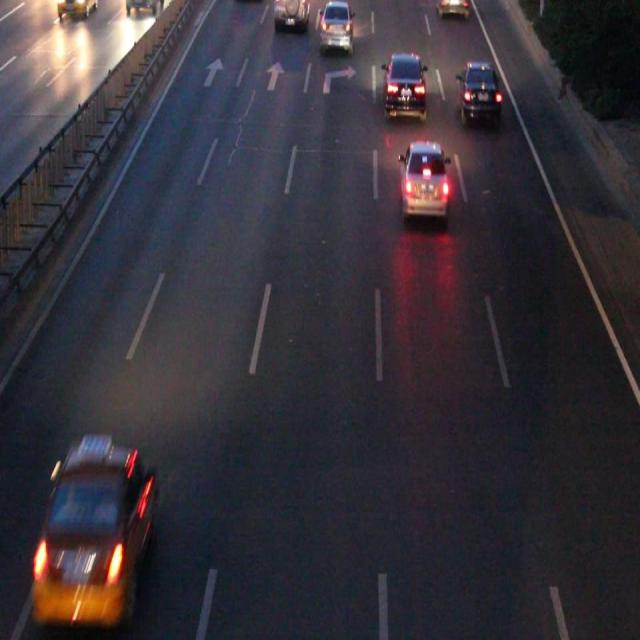car: (32, 442, 157, 600), (400, 145, 446, 214), (383, 55, 424, 116), (458, 65, 500, 122), (320, 1, 353, 49), (274, 1, 306, 26), (436, 2, 467, 15)
